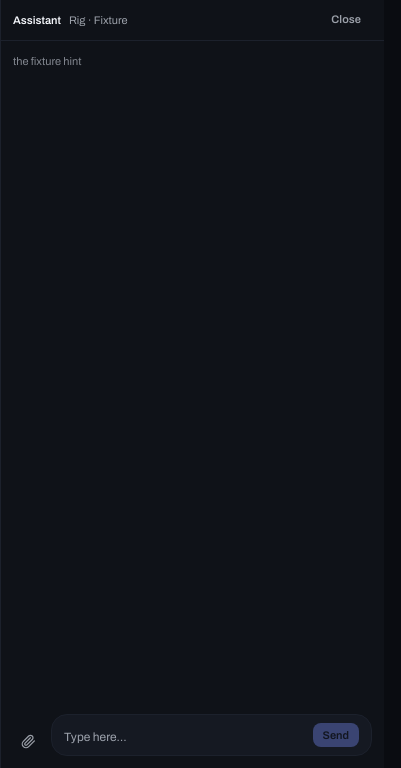
Scenario: AssistDock — send › a failed send echoes a fail note and keeps NO run block
The width and height of the screenshot is (401, 768).
Type "x" into the text box with test id "assist-input" at (184, 737), box [64,727,304,747]
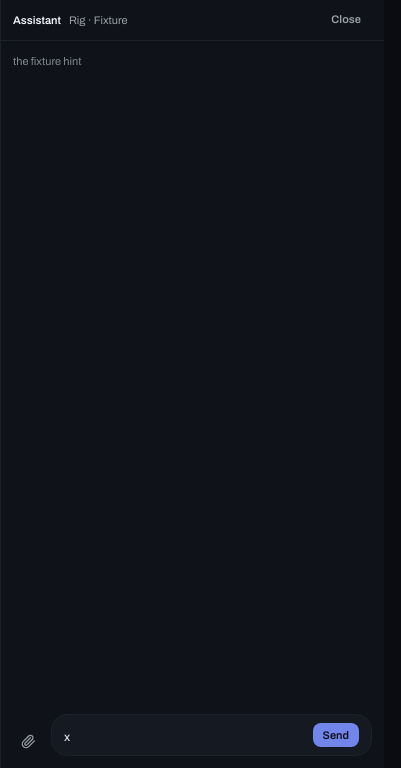
Click the button with test id "assist-send" at (336, 735), box [312,722,359,747]
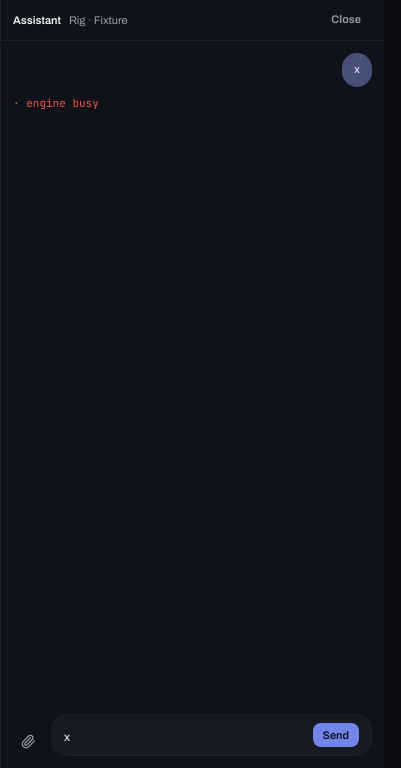
Expected: the text with test id "assist-note" shows "engine busy", [26,96,99,110]
